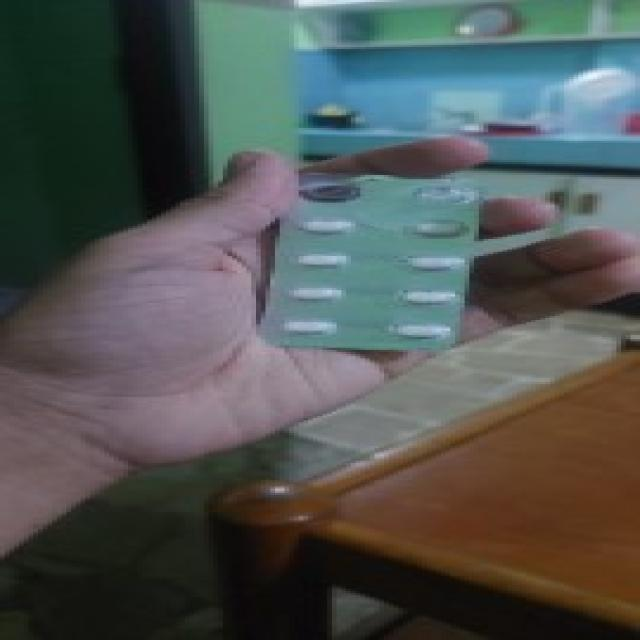Cacat: (248, 166, 479, 350)
Kemasan: (276, 172, 370, 209), (400, 172, 474, 211)
